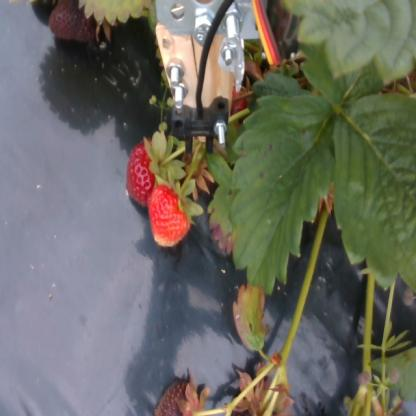ripe: (122, 141, 167, 197), (151, 187, 193, 245)
